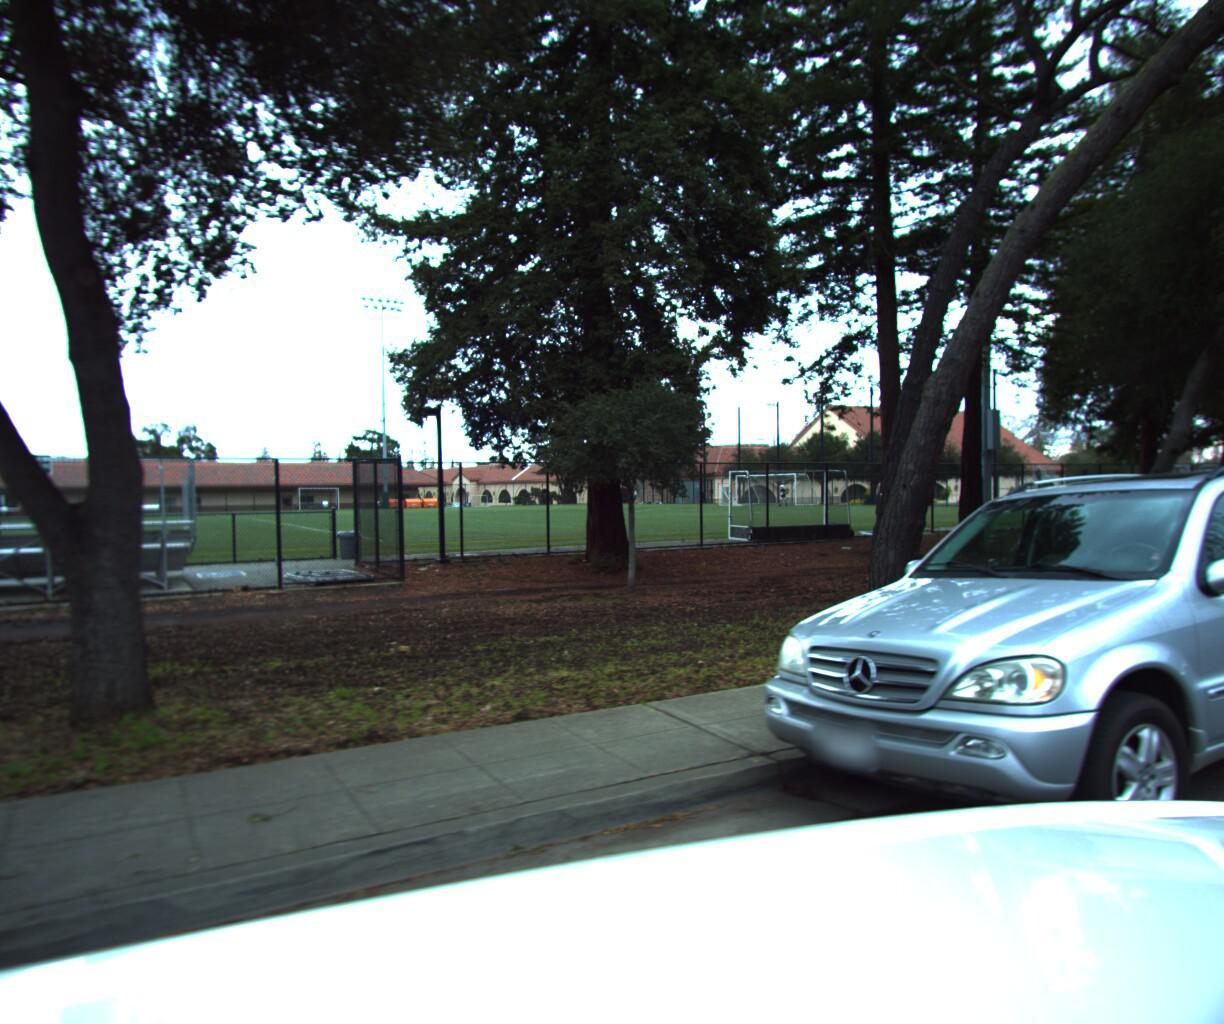car: (719, 432, 1224, 940)
